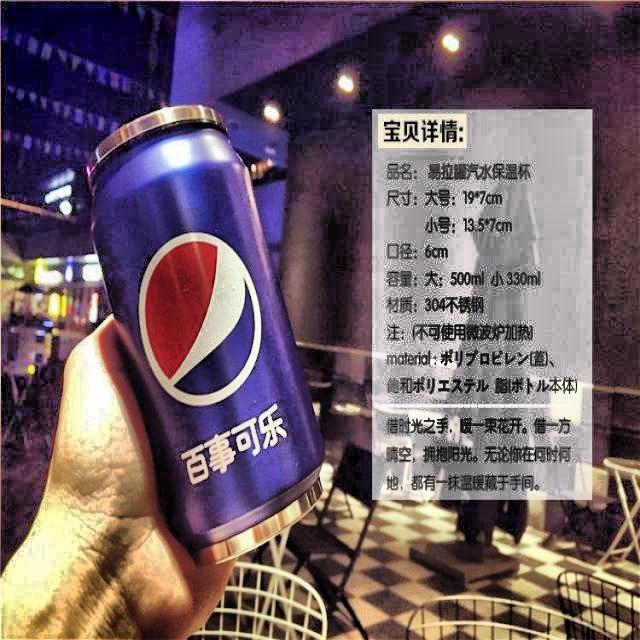can: (84, 100, 337, 574)
